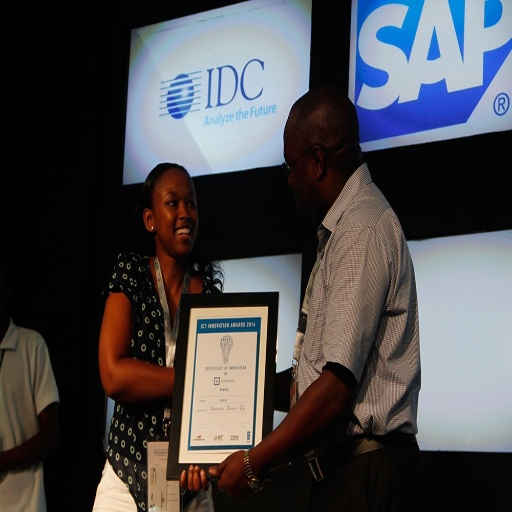hand: (209, 450, 256, 499), (179, 465, 209, 493)
